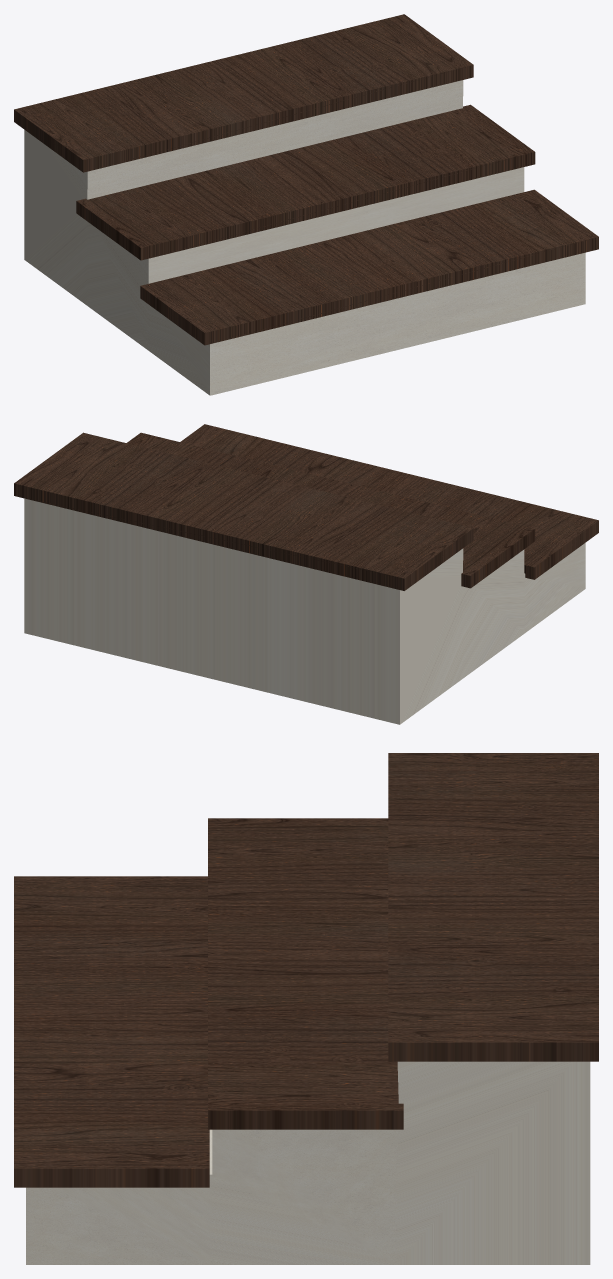
Rendered from kaidann.fbx.
The picture shows the model from 3 angles, top to bottom: view 1: azimuth 30°, elevation 25°; view 2: azimuth 150°, elevation 25°; view 3: azimuth 270°, elevation 25°; orthographic projection. The views are drawn at different scales.
Visible parts, largest first — view 1: 立方体.012; view 2: 立方体.012; view 3: 立方体.012.
Boxes of the visible parts, box(x1,y1,x2,y2) form: 立方体.012: box(14, 14, 598, 395); 立方体.012: box(14, 424, 598, 724); 立方体.012: box(14, 753, 598, 1264).
Bounding box in the file's own units: 165 × 59.97 × 140.
